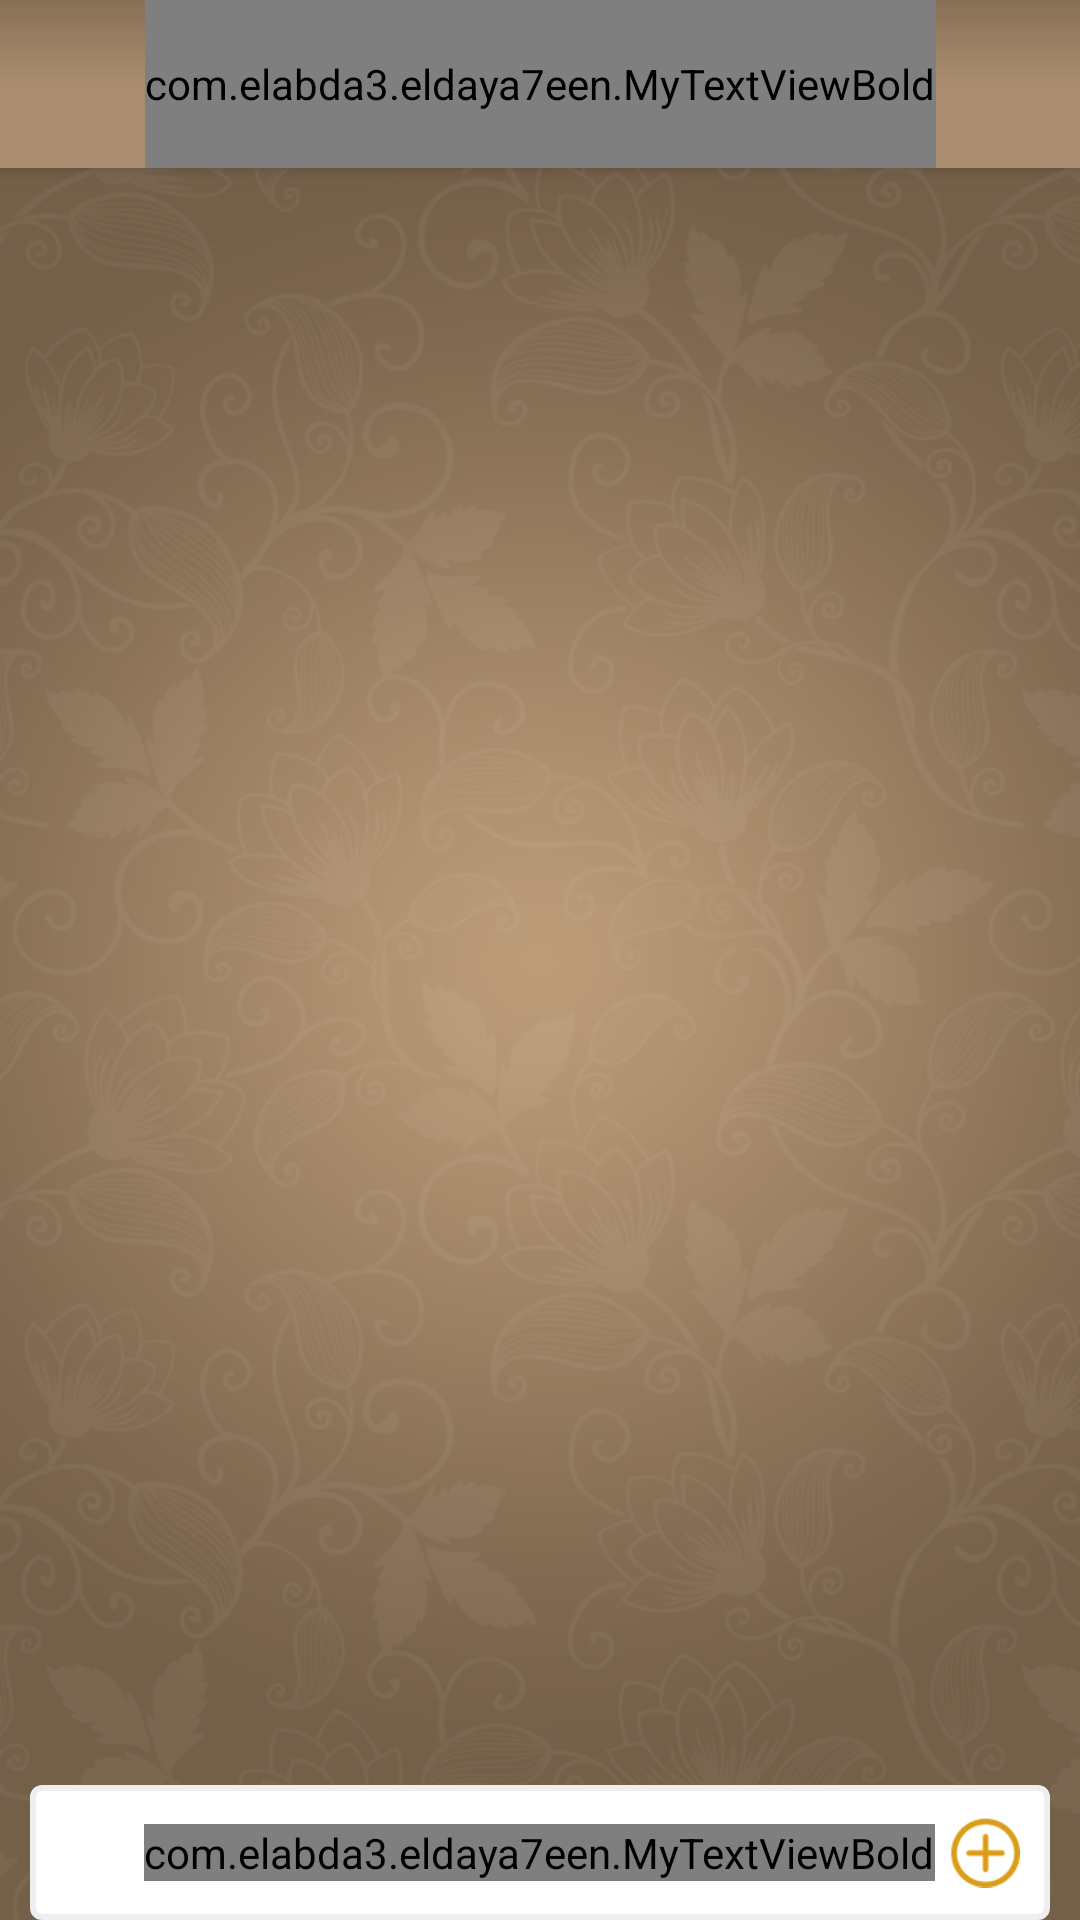

Icon click points for this 1080w x 1920h phone screenshot, format point (x, y):
add comment: point (985, 1853)
